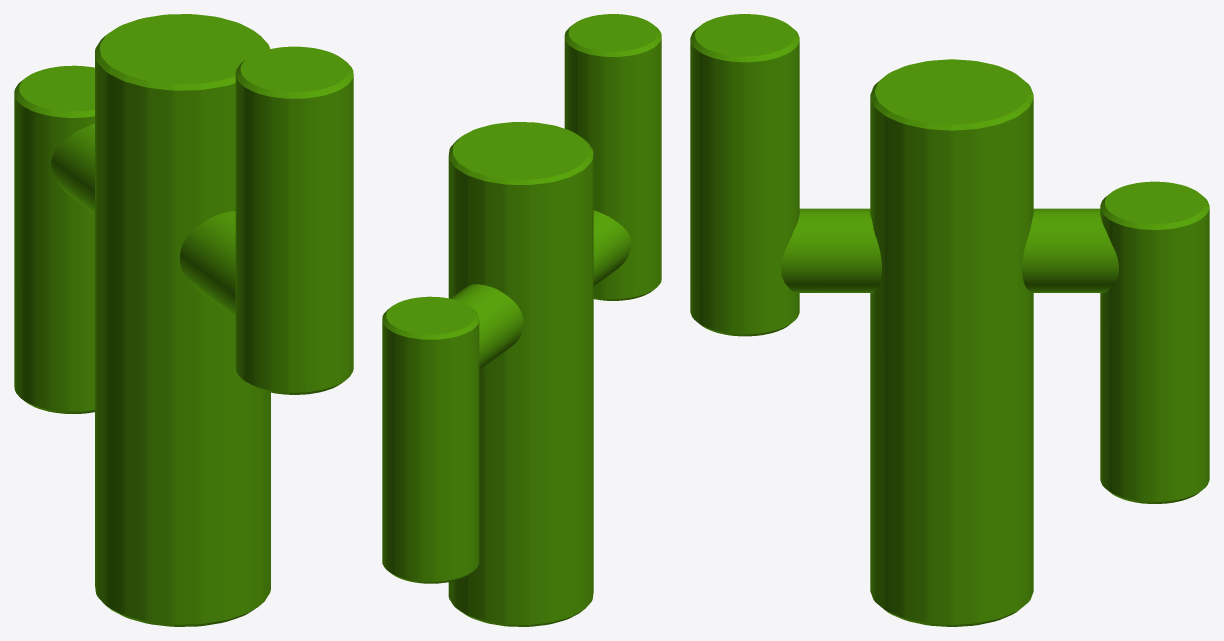
File: Cactus.fbx
The picture shows the model from 3 angles, left to right: view 1: azimuth 30°, elevation 25°; view 2: azimuth 150°, elevation 25°; view 3: azimuth 270°, elevation 25°; orthographic projection. The views are drawn at different scales.
Parts seen in each view (by area): view 1: pCylinder5; view 2: pCylinder5; view 3: pCylinder5.
Boxes of the visible parts, left/top/right/bottom form: pCylinder5: left=14, top=14, right=353, bottom=626; pCylinder5: left=382, top=14, right=661, bottom=626; pCylinder5: left=690, top=14, right=1209, bottom=626.
Size of the model in its own units: 3.76 by 14.23 by 11.97.
